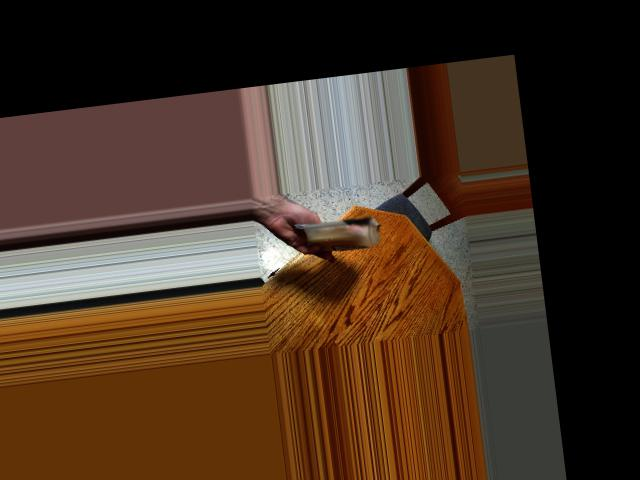cheese: (297, 200, 376, 258)
